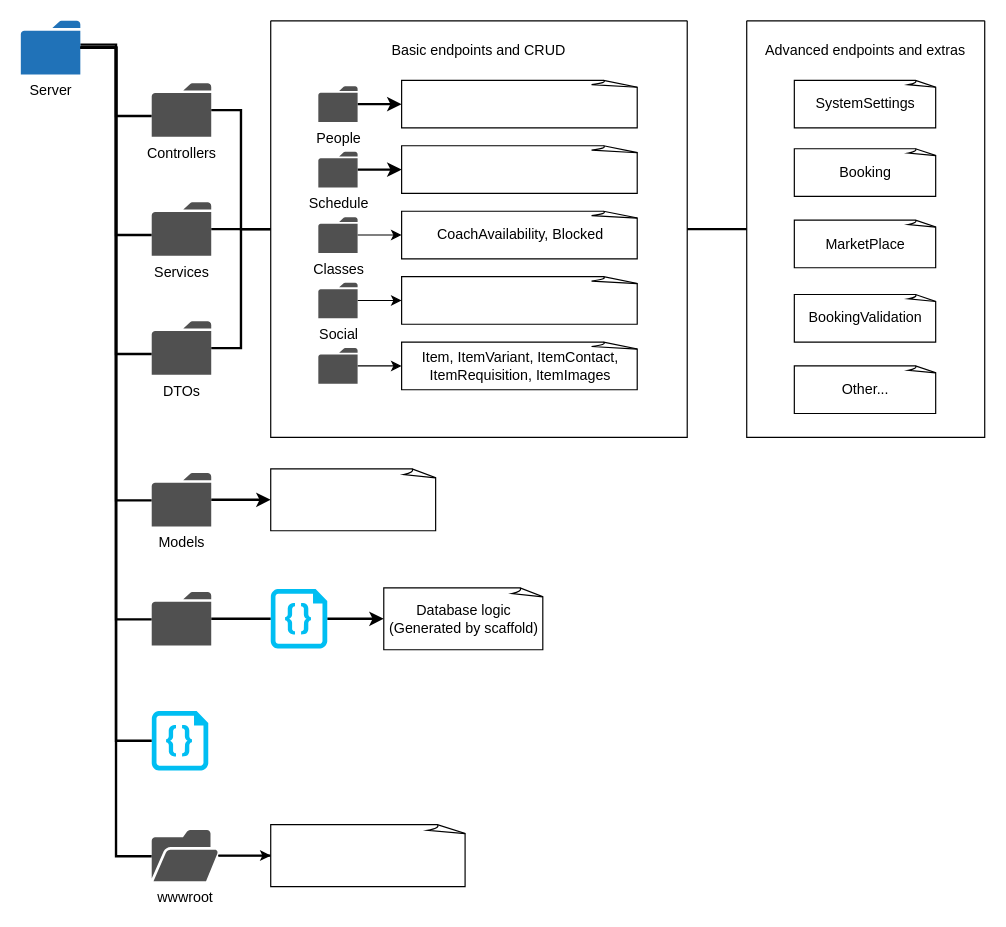
Some shapes in this 1006 by 927 pixel diagram are drawn without their labels. Each missing label, with the box of its shape:
AppDbContex.cs: (270, 588, 327, 648)
Data: (151, 591, 211, 645)
Database entities (Generated by scaffold): (270, 468, 437, 531)
Inventory: (318, 347, 357, 383)
NewsPost, Event, Notification: (400, 275, 640, 324)
Program.cs: (151, 710, 208, 770)
Public directory that stores Client files (Ex: Images): (270, 823, 467, 887)
Studio, Modality: (400, 145, 640, 193)
User, Role, Student, Parent, Staff: (400, 79, 640, 128)
